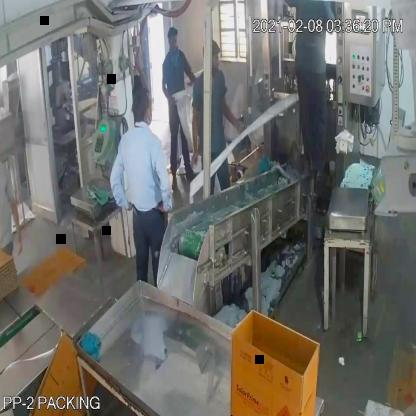no_glove: (4, 178, 33, 272), (154, 148, 176, 214), (183, 105, 204, 172), (210, 93, 246, 132), (104, 154, 128, 212)
